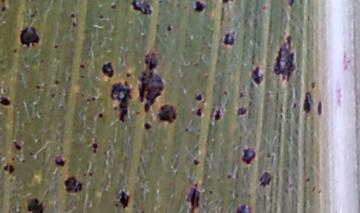tarspot: (136, 51, 165, 116), (271, 34, 296, 82), (110, 79, 133, 126), (184, 181, 202, 213), (18, 25, 41, 49), (157, 103, 177, 125), (62, 175, 83, 194), (129, 1, 152, 17), (249, 65, 265, 87), (302, 90, 314, 116), (117, 188, 131, 210), (241, 147, 257, 165), (100, 60, 115, 79), (26, 197, 43, 213), (258, 170, 273, 188), (223, 29, 236, 48), (235, 201, 251, 213), (193, 1, 206, 15), (53, 154, 66, 168), (1, 95, 12, 110), (212, 108, 222, 122), (2, 164, 16, 174), (315, 100, 323, 117), (236, 106, 247, 118), (12, 140, 22, 152), (142, 121, 153, 131), (110, 1, 121, 11), (91, 141, 98, 156), (1, 1, 9, 14), (194, 93, 204, 102), (192, 157, 201, 167), (69, 20, 79, 29), (303, 176, 312, 185), (309, 79, 317, 89), (219, 1, 235, 6), (195, 107, 203, 117), (286, 1, 295, 9), (165, 24, 173, 33), (237, 90, 244, 100), (182, 127, 191, 134), (11, 47, 19, 54), (97, 14, 105, 21), (113, 201, 120, 209), (291, 101, 298, 109), (53, 78, 60, 86), (124, 72, 133, 78), (222, 89, 228, 98), (33, 85, 42, 91), (49, 91, 55, 100), (69, 12, 76, 19), (90, 95, 97, 102), (26, 151, 34, 157), (310, 186, 316, 194), (316, 188, 322, 196), (192, 62, 200, 68), (28, 12, 36, 18), (97, 112, 104, 118), (112, 105, 118, 112), (52, 43, 59, 49), (78, 63, 85, 69), (81, 171, 87, 178), (87, 171, 93, 178), (261, 5, 267, 12), (38, 58, 45, 64), (101, 148, 107, 155), (288, 13, 294, 20), (78, 74, 84, 80), (227, 70, 233, 76), (208, 188, 213, 195), (225, 174, 232, 179), (85, 97, 90, 102), (138, 210, 145, 213), (157, 1, 162, 5)
